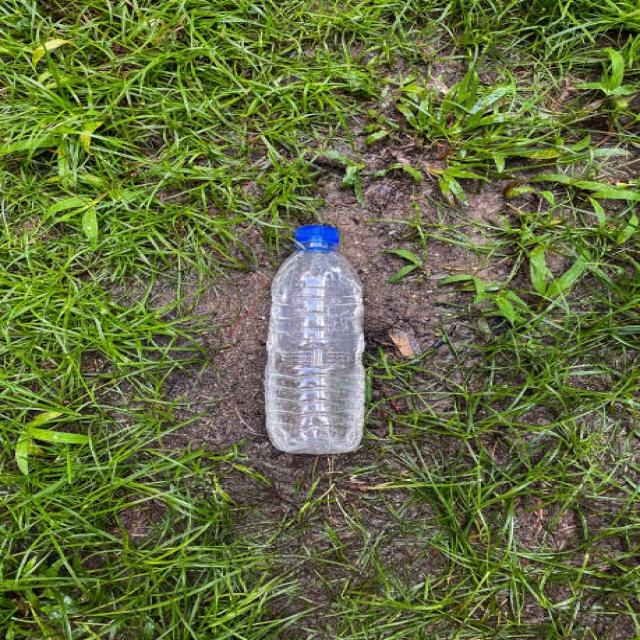plastic_bottle: (232, 216, 406, 456)
